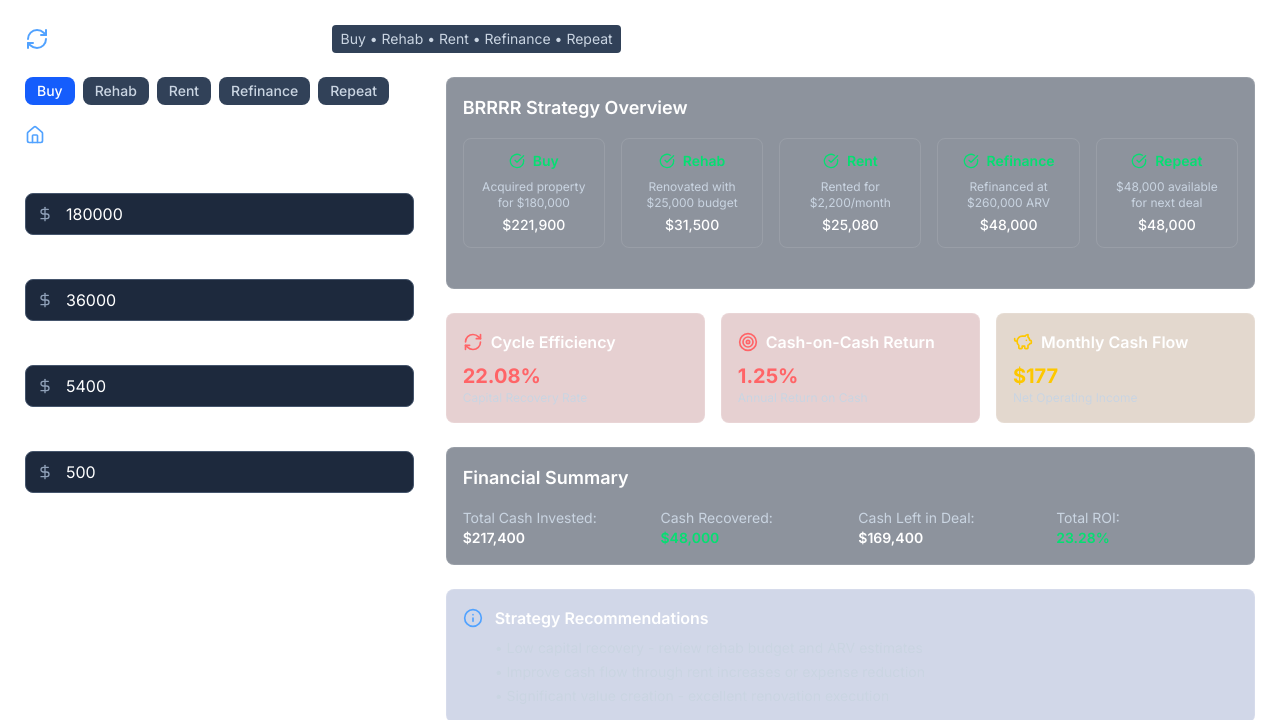
Scenario: BRRRRStrategyCalculator › shows input fields for each BRRRR phase
Expected: the number field labelled "Purchase Price" is shown, [25,193,414,235]
Expected: the number field labelled "Down Payment" is shown, [25,279,414,321]
Note: Switch to Rehab phase and check its fields
Click the button "Rehab": (116, 91) [83,77,149,105]
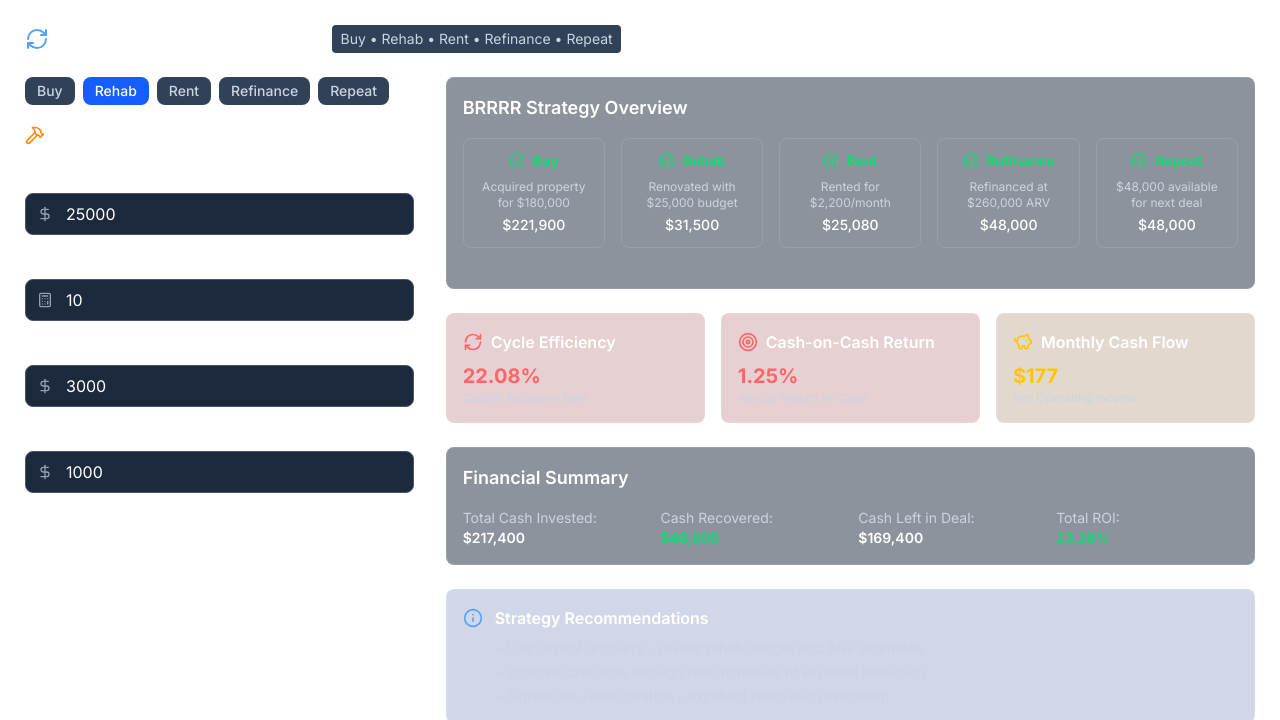
Result: the number field labelled "Rehab Budget" is shown at [25,193,414,235]
Note: Switch to Rent phase and check its fields
Click the button "Rent": (184, 91) [157,77,211,105]
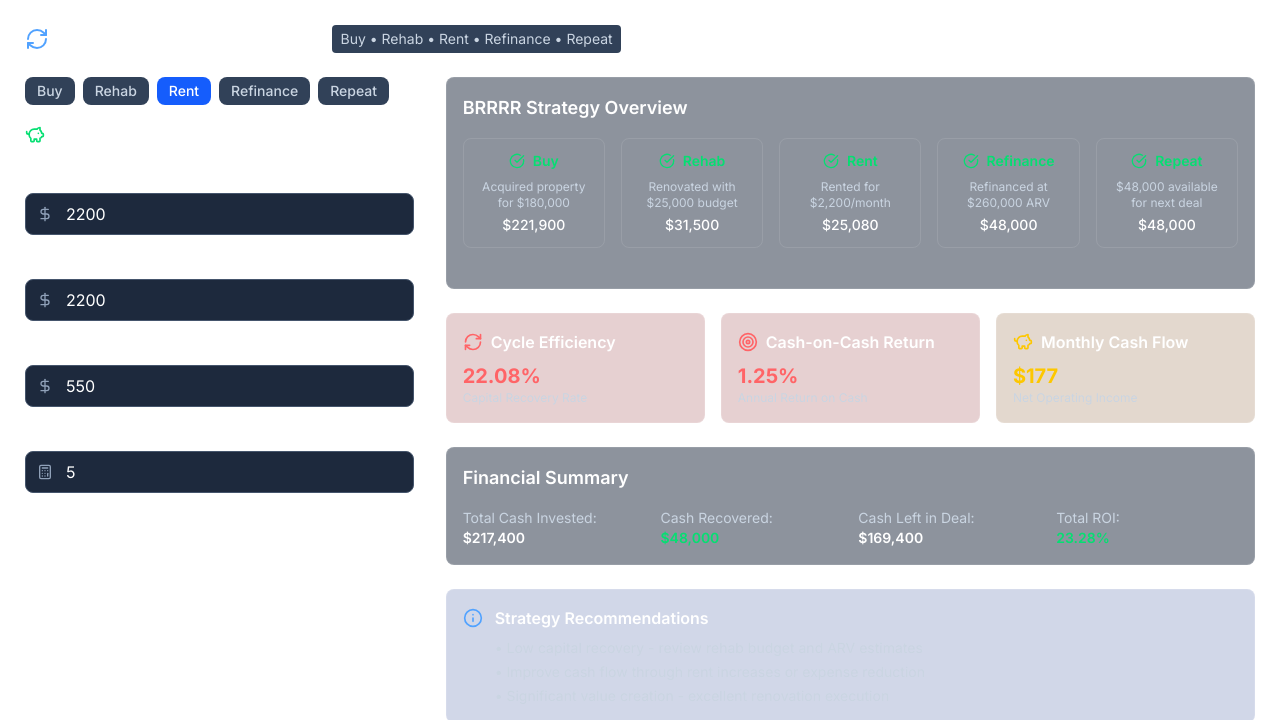
Result: the number field labelled "Monthly Rent" is shown at [25,193,414,235]
Note: Switch to Refinance phase and check its fields
Click the button "Refinance": (265, 91) [219,77,310,105]
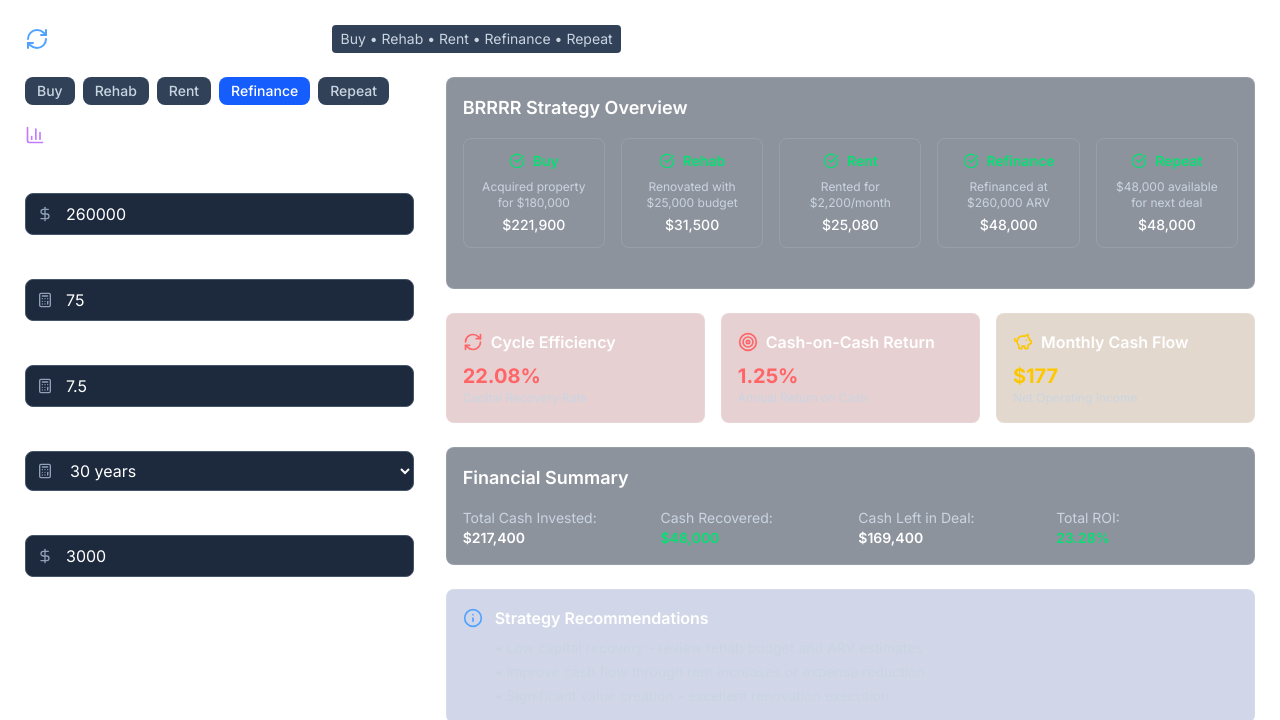
Result: the number field labelled "After Repair Value (ARV)" is shown at [25,193,414,235]
